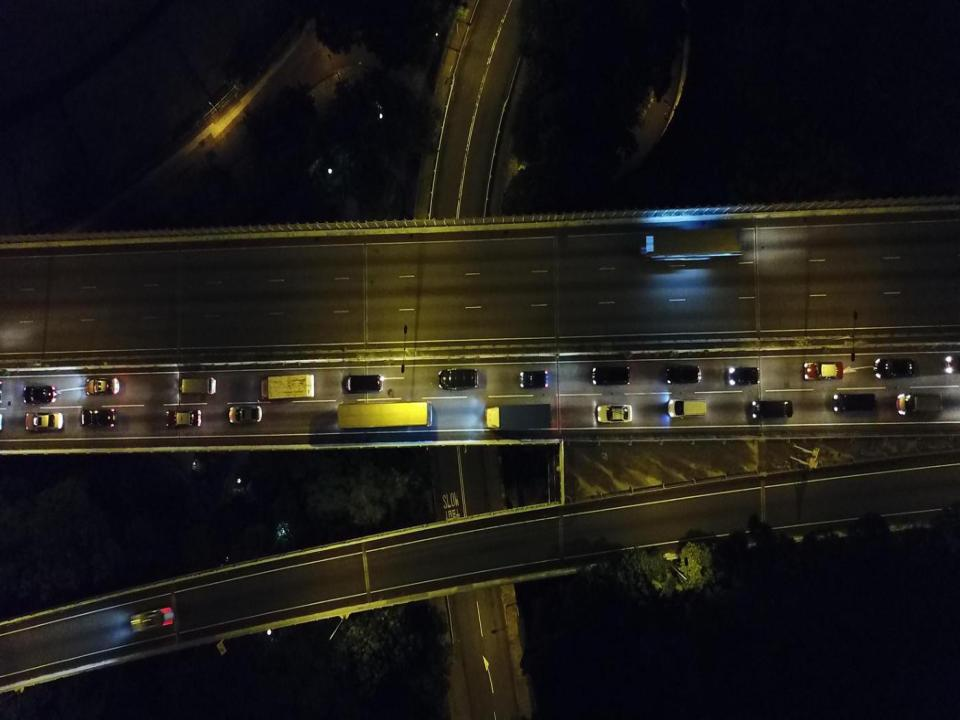bus: (337, 401, 433, 428)
car: (130, 606, 175, 633), (873, 357, 915, 380), (438, 368, 480, 390), (752, 398, 794, 420), (832, 392, 876, 413), (591, 365, 631, 386), (81, 407, 117, 430), (25, 412, 63, 432), (344, 373, 384, 392), (804, 361, 844, 380), (596, 403, 633, 423), (665, 364, 702, 384), (165, 409, 202, 428), (22, 385, 56, 404), (229, 405, 263, 424), (728, 366, 760, 386), (85, 377, 119, 395), (518, 370, 550, 388)
truck: (640, 227, 744, 262), (484, 403, 552, 431), (260, 374, 314, 399), (180, 377, 216, 395)
van: (896, 391, 944, 417), (667, 398, 707, 417)
